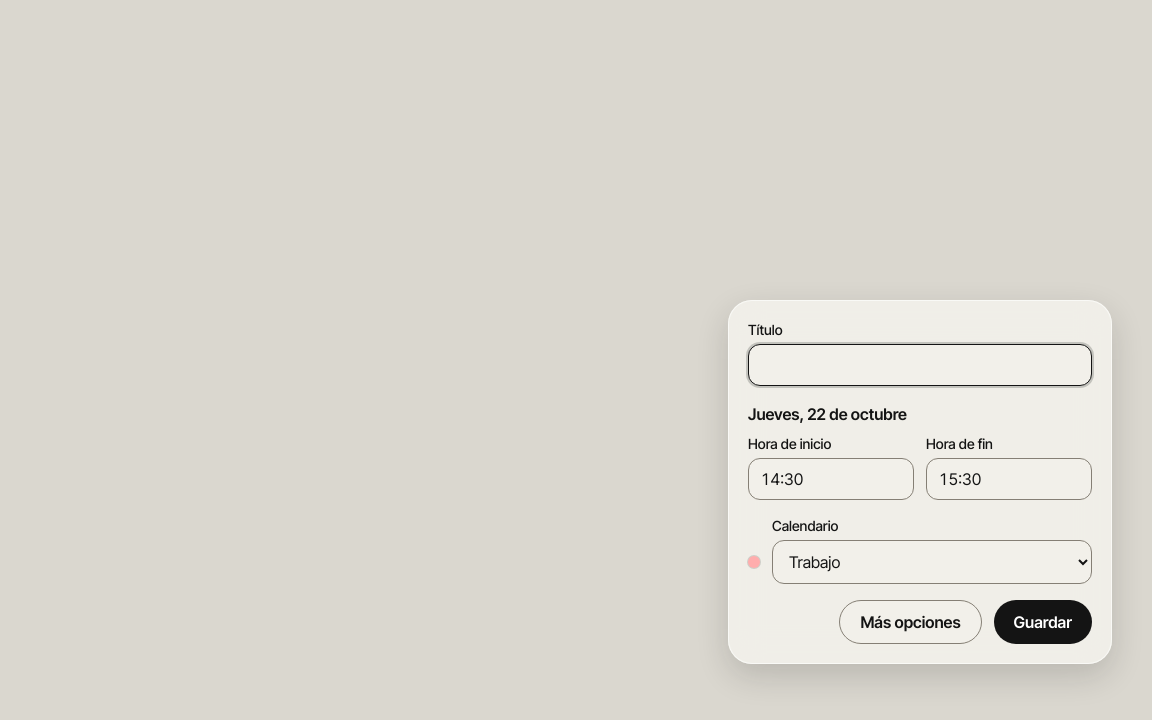
it: QuickCreate › saves in window mode, then closes, refreshes and says so (RF-38)
In the field labelled "Título": (920, 365) [748,344,1092,386], type "Cena"
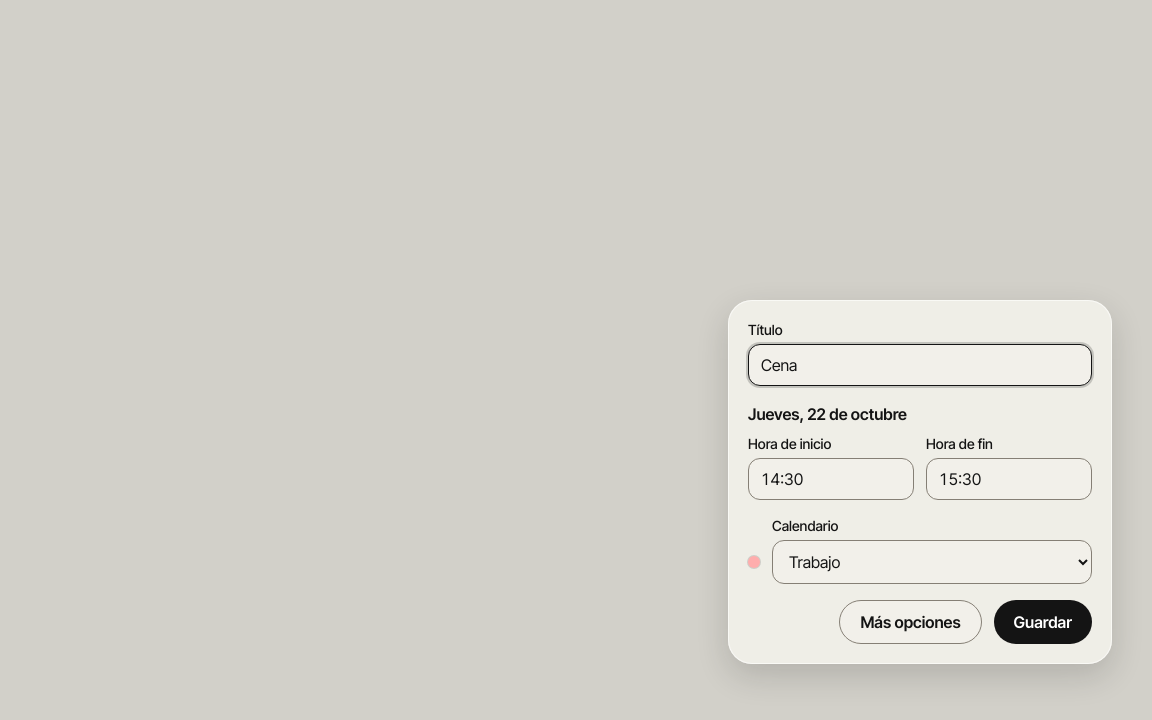
Click the button "Guardar": (1043, 622) [994,600,1092,644]
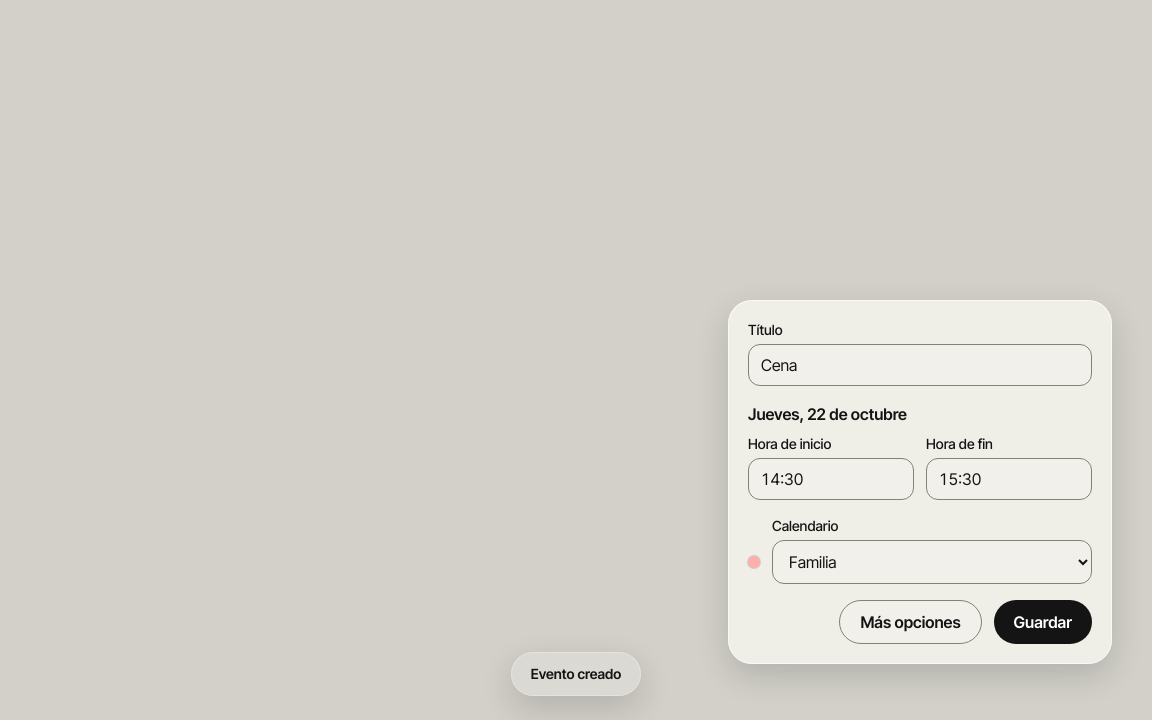
Expected: the text "Evento creado" is shown, [511,652,641,696]
